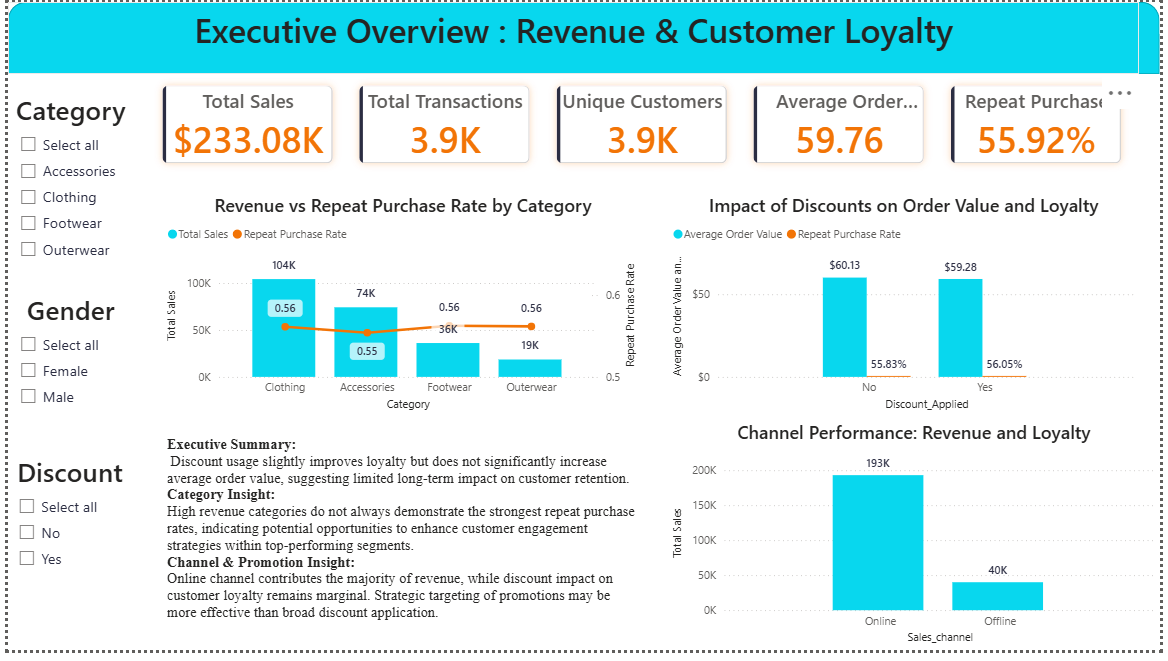

The page's visual inventory and layout, read from the dashboard file:
{"tool":"powerbi","page":{"name":"Executive Overview","canvas":[1280,720],"ordinal":0},"visuals":[{"type":"shape","box":[0,0,1279.5,80.3],"z":5000},{"type":"cardVisual","fields":{"Data":["Calculated_Measures.Total Sales","Calculated_Measures.Total Transactions","Calculated_Measures.Unique Customers","Calculated_Measures.Average Order Value","Calculated_Measures.Repeat Purchase Rate"]},"box":[152.9,80.3,1103.9,112.1],"z":6000},{"type":"lineStackedColumnComboChart","title":"Revenue vs Repeat Purchase Rate by Category","fields":{"Category":["customer_shopping_behavior.Category"],"Y":["Calculated_Measures.Total Sales"],"Y2":["Calculated_Measures.Repeat Purchase Rate"]},"box":[171.1,205.9,534.5,252.9],"z":7000},{"type":"columnChart","title":"Channel Performance: Revenue and Loyalty","fields":{"Category":["customer_shopping_behavior.Sales_channel"],"Y":["Calculated_Measures.Total Sales"]},"box":[732.9,458.8,546.6,260.4],"z":8000},{"type":"clusteredColumnChart","title":"Impact of Discounts on Order Value and Loyalty","fields":{"Category":["customer_shopping_behavior.Discount_Applied"],"Y":["Calculated_Measures.Average Order Value","Calculated_Measures.Repeat Purchase Rate"]},"box":[732.9,205.9,523.9,252.9],"z":9000},{"type":"textbox","box":[0,0,1256.8,80.3],"z":10000},{"type":"textbox","box":[171.1,477,534.5,242.3],"z":11000},{"type":"slicer","title":"Category","fields":{"Values":["customer_shopping_behavior.Category"]},"box":[1.5,99.9,136.3,210.5],"z":12000},{"type":"slicer","title":"Gender","fields":{"Values":["customer_shopping_behavior.Gender"]},"box":[1.5,321,136.3,163.5],"z":13000},{"type":"slicer","title":"Discount","fields":{"Values":["customer_shopping_behavior.Discount_Applied"]},"box":[0,501.2,137.8,154.4],"z":14000}]}

Visuals, with their boxes in screenshot pixels (x1, y1, x2, y2), scaled from the page's 1280x720 canvas onto the 1168x661 screenshot:
shape: (0,0,1167,74)
cardVisual - Calculated_Measures.Total Sales x Calculated_Measures.Total Transactions: (140,74,1147,177)
"Revenue vs Repeat Purchase Rate by Category" lineStackedColumnComboChart: (156,189,644,421)
"Channel Performance: Revenue and Loyalty" columnChart: (669,421,1167,660)
"Impact of Discounts on Order Value and Loyalty" clusteredColumnChart: (669,189,1147,421)
textbox: (0,0,1147,74)
textbox: (156,438,644,660)
"Category" slicer: (1,92,126,285)
"Gender" slicer: (1,295,126,445)
"Discount" slicer: (0,460,126,602)
